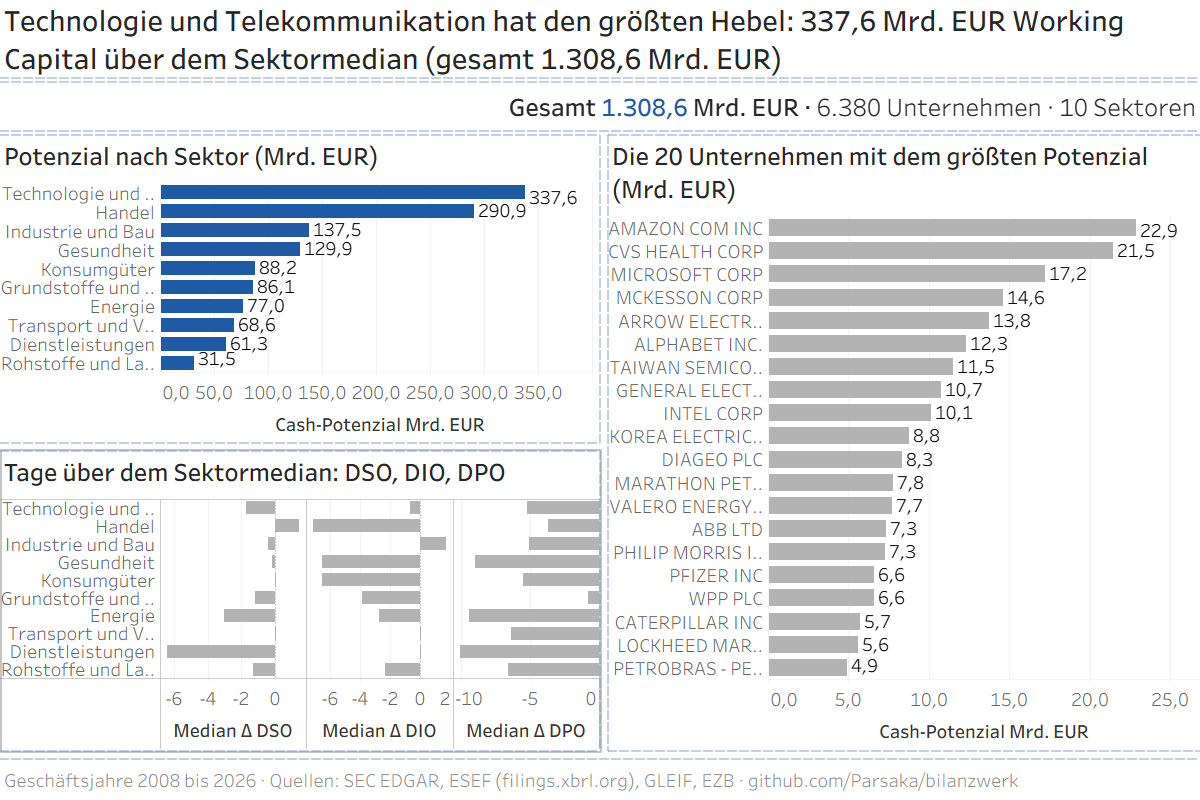

The dashboard page shown, as its layout file describes it:
{"tool":"tableau","page":{"name":"Working-Capital-Potenzial","canvas":[1200,800],"ordinal":0},"visuals":[{"type":"text","box":[16,8,1168,56]},{"type":"worksheet","title":"KPI-Zeile","mark":"Text","box":[16,72,1168,60]},{"type":"worksheet","title":"Brücke nach Sektor","mark":"Bar","rows":["sector_de"],"cols":["Calc_Cash_Bn"],"box":[16,140,584,600]},{"type":"worksheet","title":"Top 20 Unternehmen","mark":"Bar","rows":["company_name"],"cols":["Calc_Cash_Bn"],"box":[608,140,576,330]},{"type":"worksheet","title":"Wo das Cash liegt","mark":"Bar","rows":["sector_de"],"cols":["Calc_Delta_DSO","Calc_Delta_DIO","Calc_Delta_DPO"],"box":[608,478,576,262]},{"type":"text","box":[16,748,1168,40]}]}

Visuals, with their boxes in screenshot pixels (x1, y1, x2, y2), scaled from the page's 1200x800 canvas onto the 1200x800 screenshot:
text: BBox(16, 8, 1184, 64)
"KPI-Zeile" worksheet (Text marks): BBox(16, 72, 1184, 132)
"Brücke nach Sektor" worksheet (Bar marks): BBox(16, 140, 600, 740)
"Top 20 Unternehmen" worksheet (Bar marks): BBox(608, 140, 1184, 470)
"Wo das Cash liegt" worksheet (Bar marks): BBox(608, 478, 1184, 740)
text: BBox(16, 748, 1184, 788)
